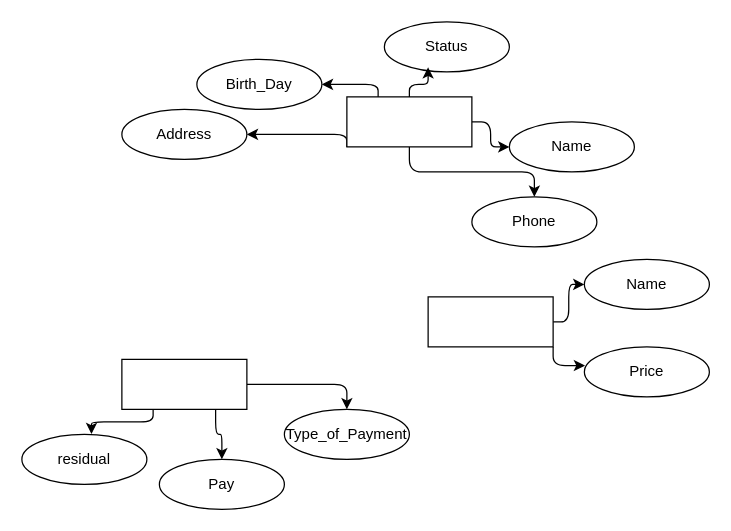
Image size: 731x531. Some labels were removed from this diagram. Here are the shapes that lost their labels. From the top down, the centre of each, then its label:
pixel 409 121: Member
pixel 490 321: Subscrption
pixel 184 383: Paymanet
